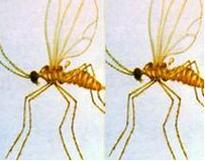Cecidomyiidae: (1, 1, 106, 159), (108, 1, 205, 160)
